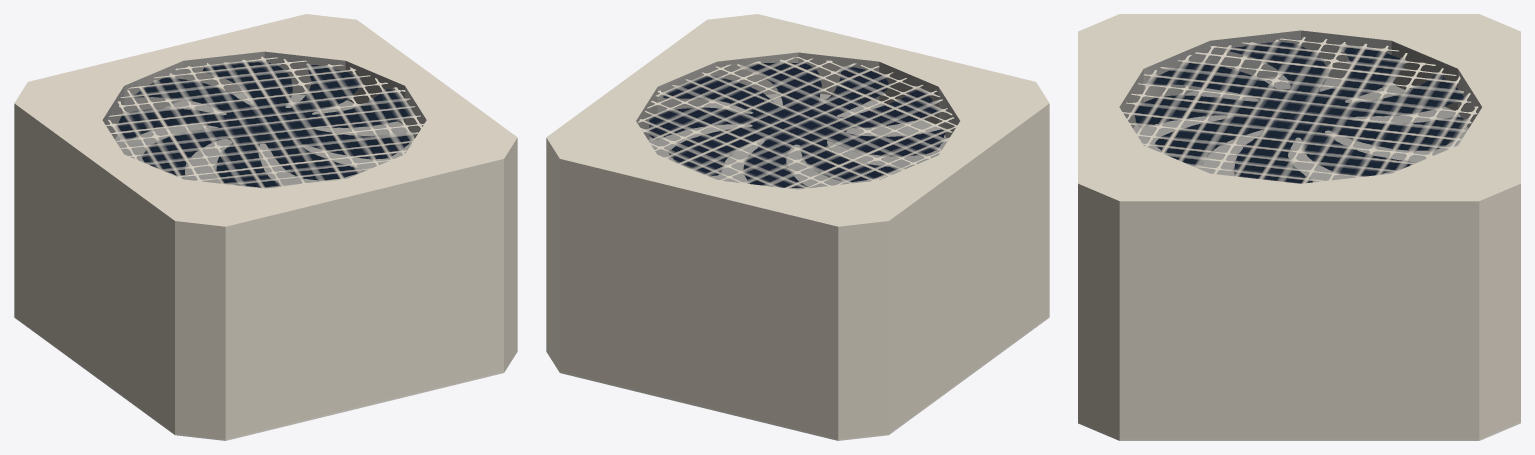
Rendered from clim.glb.
3 views of the same model, side by side, from view 1: azimuth 30°, elevation 25°; view 2: azimuth 150°, elevation 25°; view 3: azimuth 270°, elevation 25° (orthographic). The views are drawn at different scales.
Parts seen in each view (by area): view 1: clim; view 2: clim; view 3: clim.
Part boxes in pixels (x1,y1,x2,y2): clim: (14,14,517,440); clim: (546,14,1049,440); clim: (1078,14,1520,440).
Size of the model in its own units: 0.8 by 0.478 by 0.8.
Materials: 1 (1 with a texture image).
